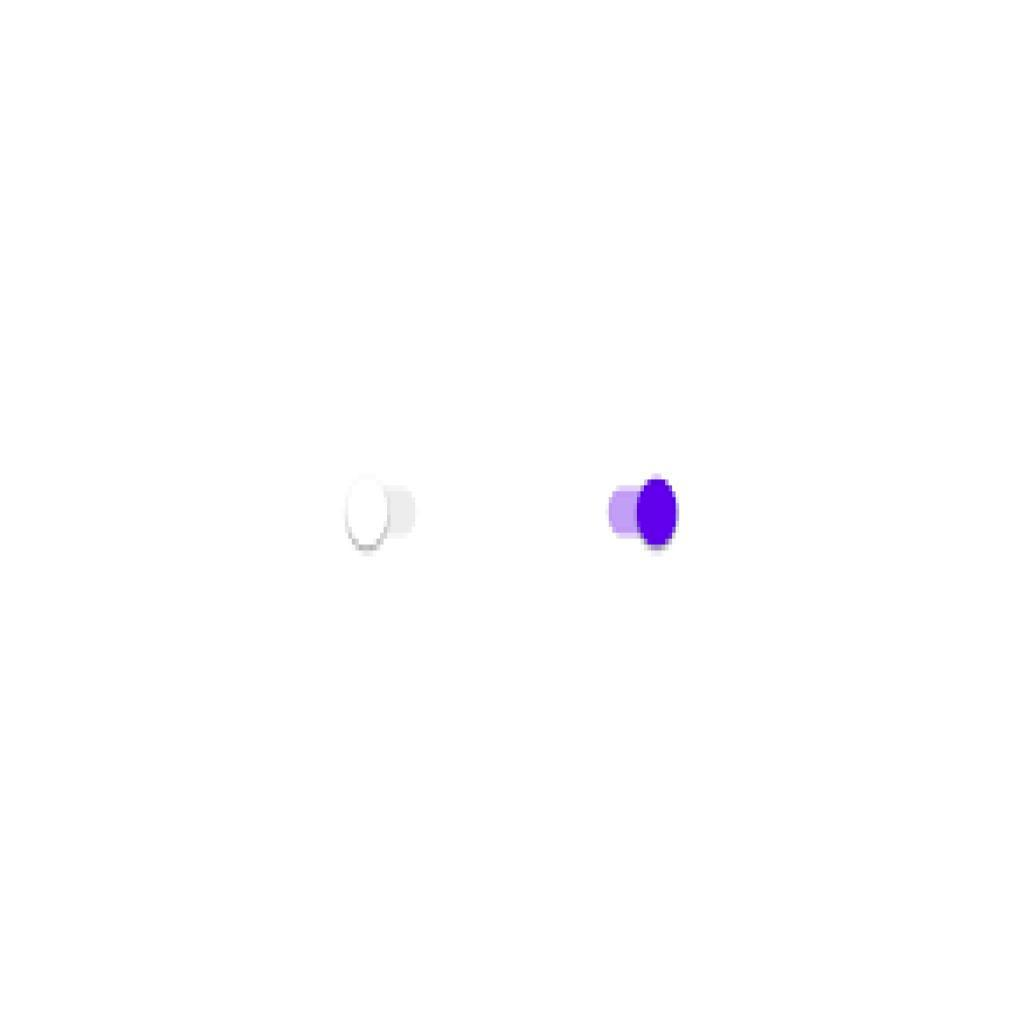switch: (344, 473, 418, 558), (608, 474, 681, 559)
